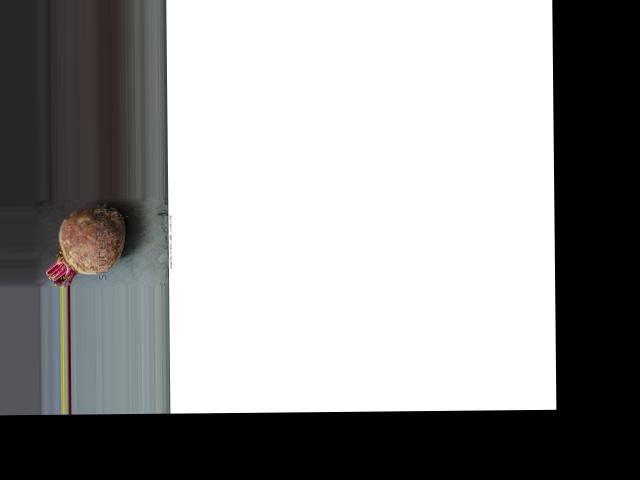beet: (46, 206, 125, 287)
